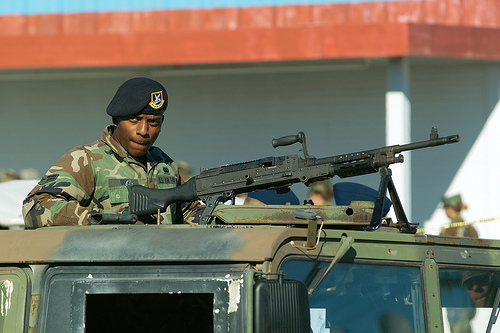rifle: (116, 154, 456, 216)
